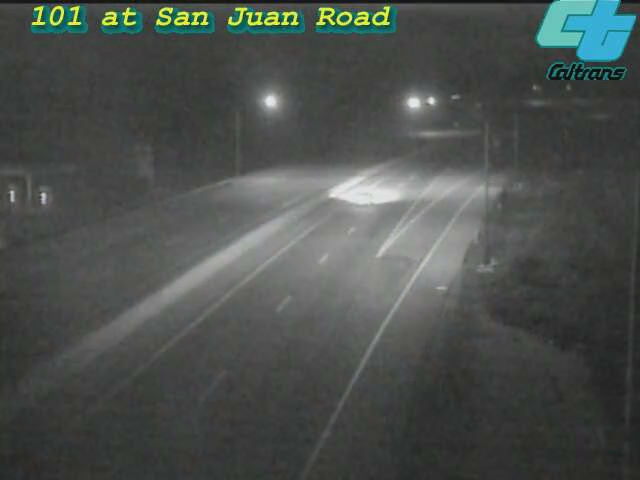vehicle: (320, 158, 400, 238)
